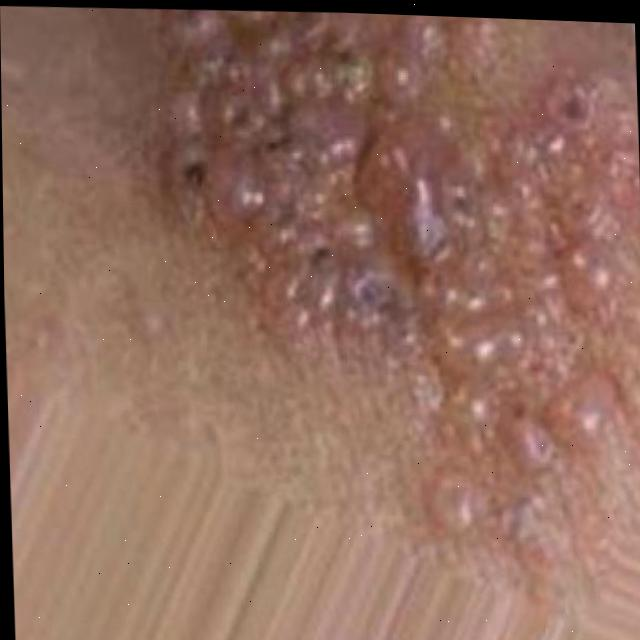Shingles: (141, 5, 634, 538)
